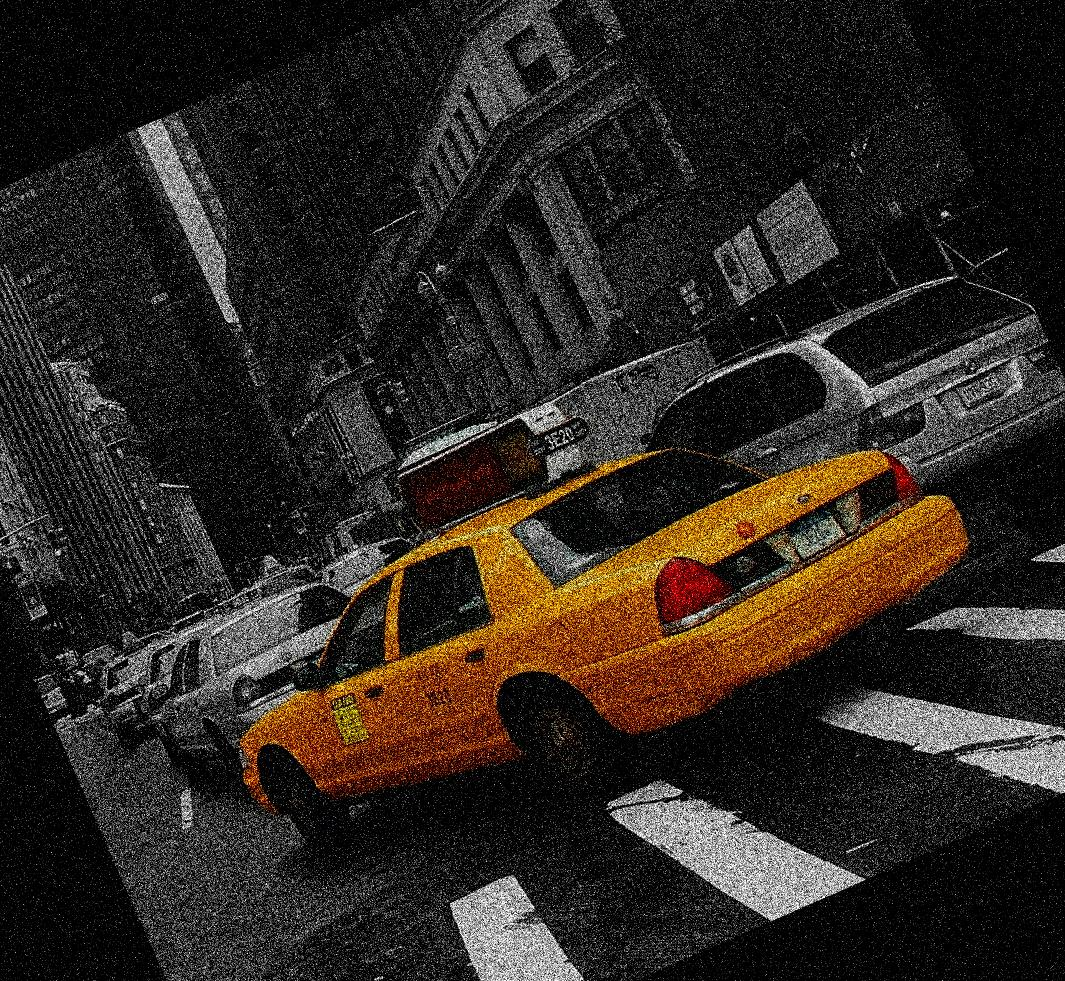taxi: (218, 438, 993, 842)
